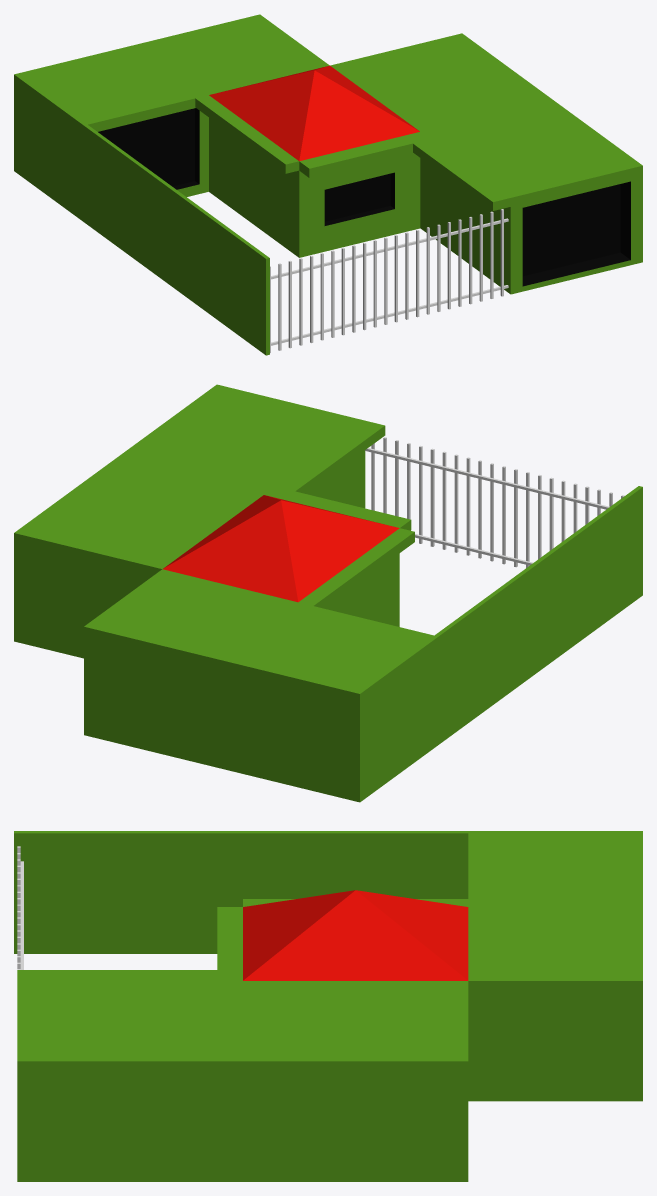
File: casa_5.fbx
3 renders of one model, top to bottom at view 1: azimuth 30°, elevation 25°; view 2: azimuth 150°, elevation 25°; view 3: azimuth 270°, elevation 25°, orthographic. The views are drawn at different scales.
Visible parts, largest first — view 1: Cube.001; view 2: Cube.001; view 3: Cube.001.
Part boxes in pixels (x1,y1,x2,y2): Cube.001: (14, 14, 642, 355); Cube.001: (14, 384, 642, 802); Cube.001: (14, 831, 642, 1181).
Bounding box in the file's own units: 1249 × 441 × 1442.
